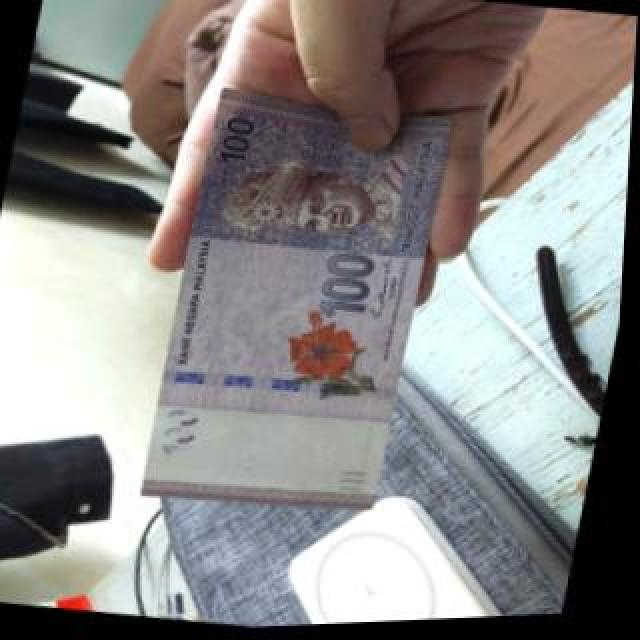100 Ringgit: (146, 66, 467, 528)
